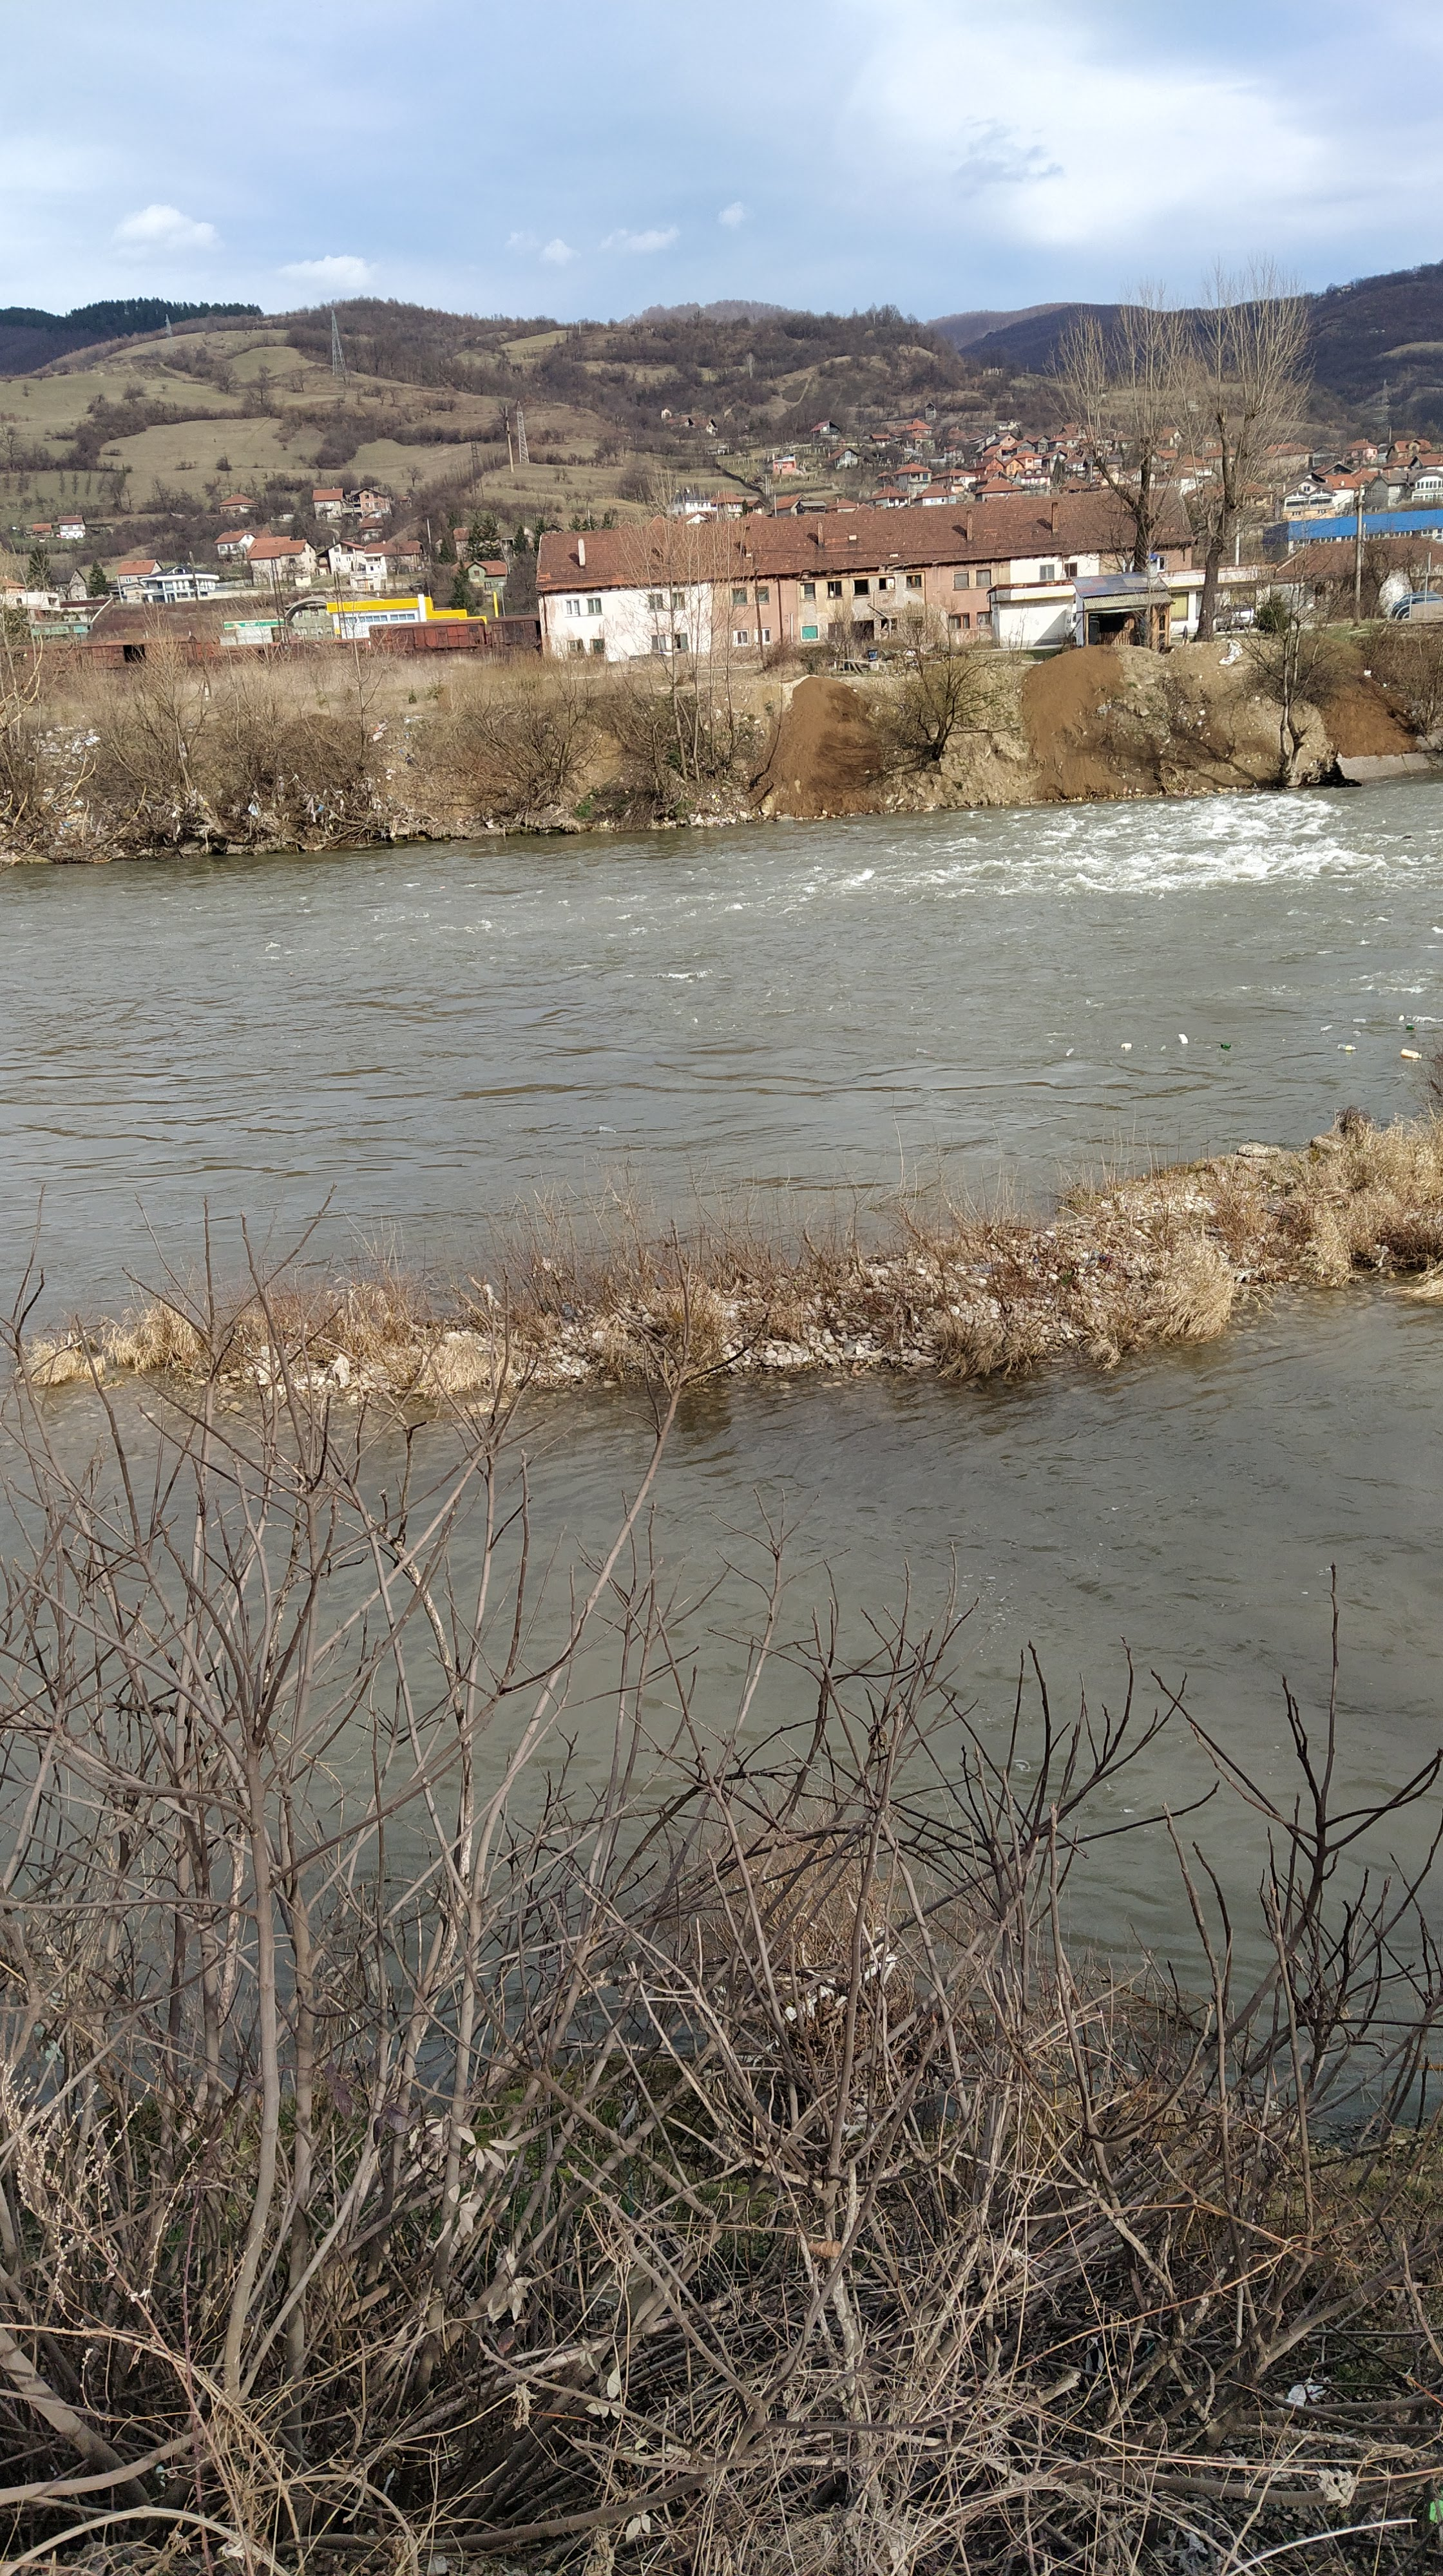Plastic Bottle: (1401, 1049, 1422, 1058), (1337, 1044, 1356, 1051), (598, 1125, 614, 1132), (1353, 1017, 1365, 1023), (1406, 1023, 1415, 1030), (1066, 1047, 1073, 1056), (1321, 1024, 1331, 1030), (915, 1047, 926, 1053), (1222, 1042, 1231, 1047), (1353, 1030, 1360, 1035), (1161, 1044, 1167, 1051)
